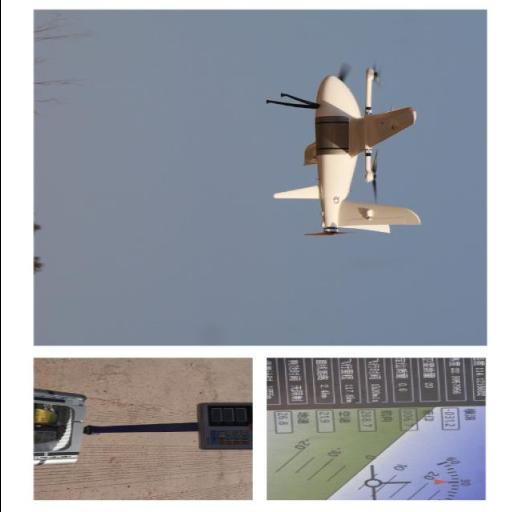uav: (272, 60, 426, 242)
